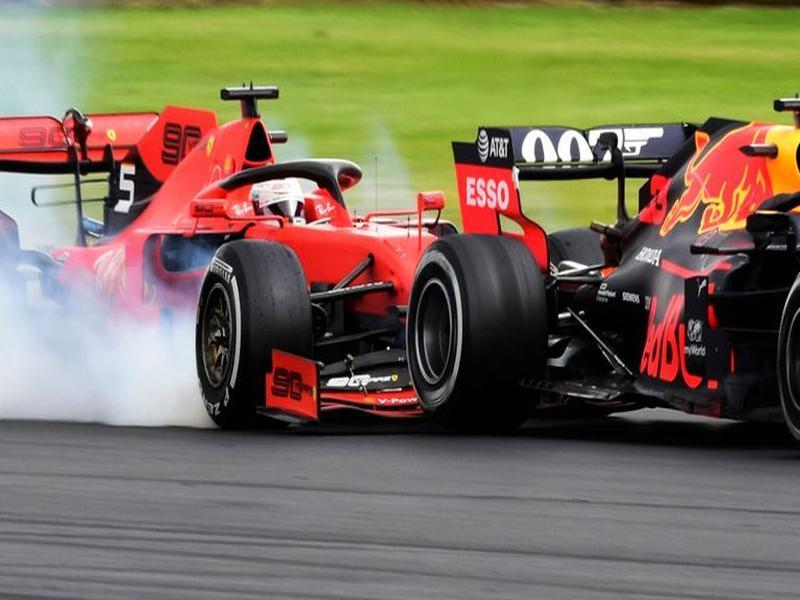f1: (3, 91, 492, 454), (401, 63, 800, 452)
